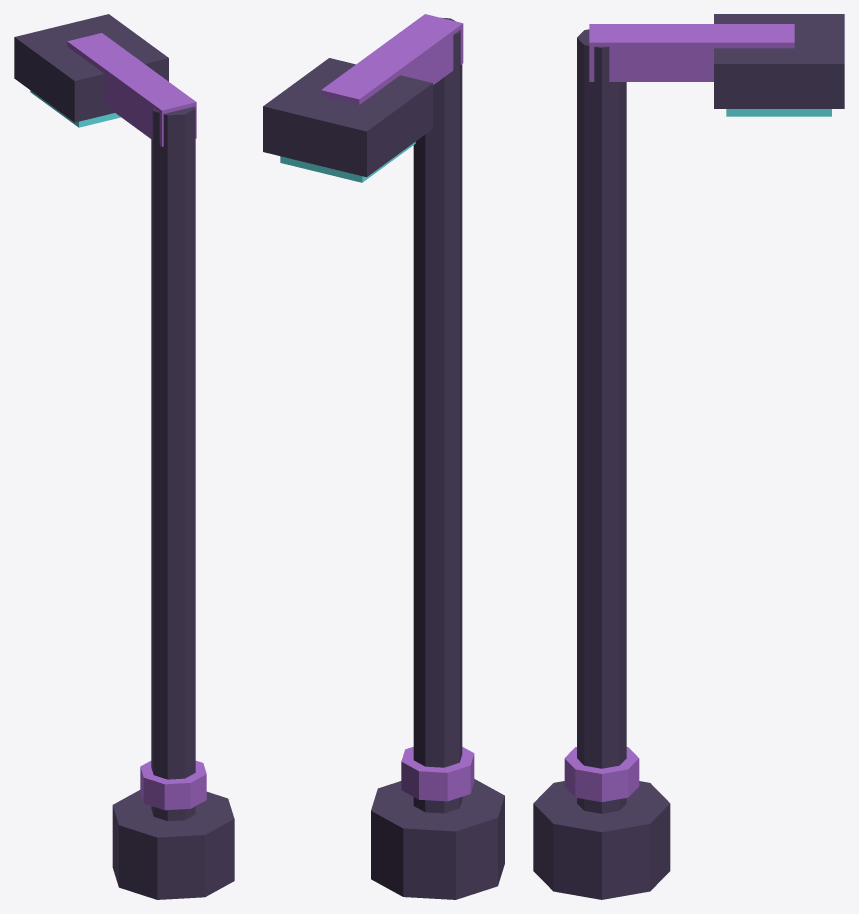
Rendered from streetlight.glb.
The picture shows the model from 3 angles, left to right: view 1: azimuth 30°, elevation 25°; view 2: azimuth 150°, elevation 25°; view 3: azimuth 270°, elevation 25°; orthographic projection. The views are drawn at different scales.
Visible parts, largest first — view 1: Post, Base, Lamp housing, Arm, Post collar; view 2: Post, Base, Lamp housing, Arm, Post collar, Light panel; view 3: Post, Base, Lamp housing, Arm, Post collar, Light panel.
Boxes of the visible parts, x1=… form: Post: x1=151, y1=106, x2=195, y2=821; Base: x1=112, y1=790, x2=234, y2=899; Lamp housing: x1=14, y1=14, x2=168, y2=122; Arm: x1=67, y1=33, x2=196, y2=146; Post collar: x1=140, y1=760, x2=206, y2=810; Post: x1=413, y1=17, x2=462, y2=813; Base: x1=371, y1=779, x2=504, y2=899; Lamp housing: x1=263, y1=58, x2=432, y2=177; Arm: x1=321, y1=14, x2=463, y2=104; Post collar: x1=401, y1=747, x2=474, y2=801; Light panel: x1=280, y1=142, x2=415, y2=182; Post: x1=577, y1=29, x2=626, y2=813; Base: x1=533, y1=781, x2=670, y2=899; Lamp housing: x1=714, y1=14, x2=844, y2=108; Arm: x1=589, y1=24, x2=794, y2=81; Post collar: x1=564, y1=747, x2=639, y2=802; Light panel: x1=726, y1=109, x2=831, y2=116.
Size of the model in its own units: 0.44 by 2.97 by 1.
